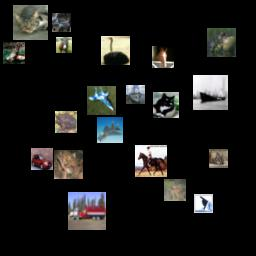airplane: (87, 86, 116, 115), (97, 117, 123, 143), (194, 194, 213, 213)
automobile: (31, 148, 53, 170), (52, 13, 71, 32)
bird: (101, 36, 130, 65)
cat: (13, 5, 48, 40), (153, 92, 179, 118), (209, 149, 228, 168)
deer: (164, 179, 186, 201), (3, 42, 25, 64)
frog: (54, 150, 83, 179), (207, 28, 236, 57), (55, 111, 77, 133)
ship: (193, 75, 228, 110), (126, 85, 145, 104)
truck: (68, 192, 106, 230)
